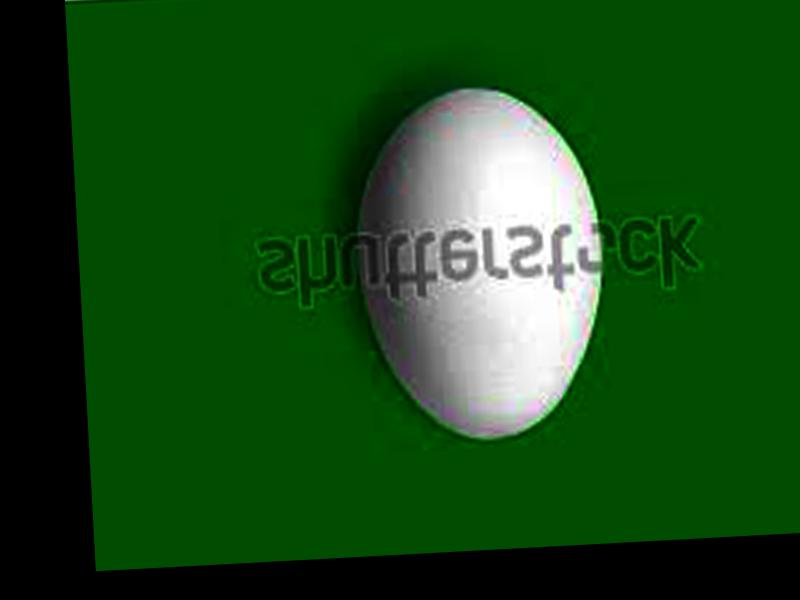Eggs: (347, 84, 610, 446)
